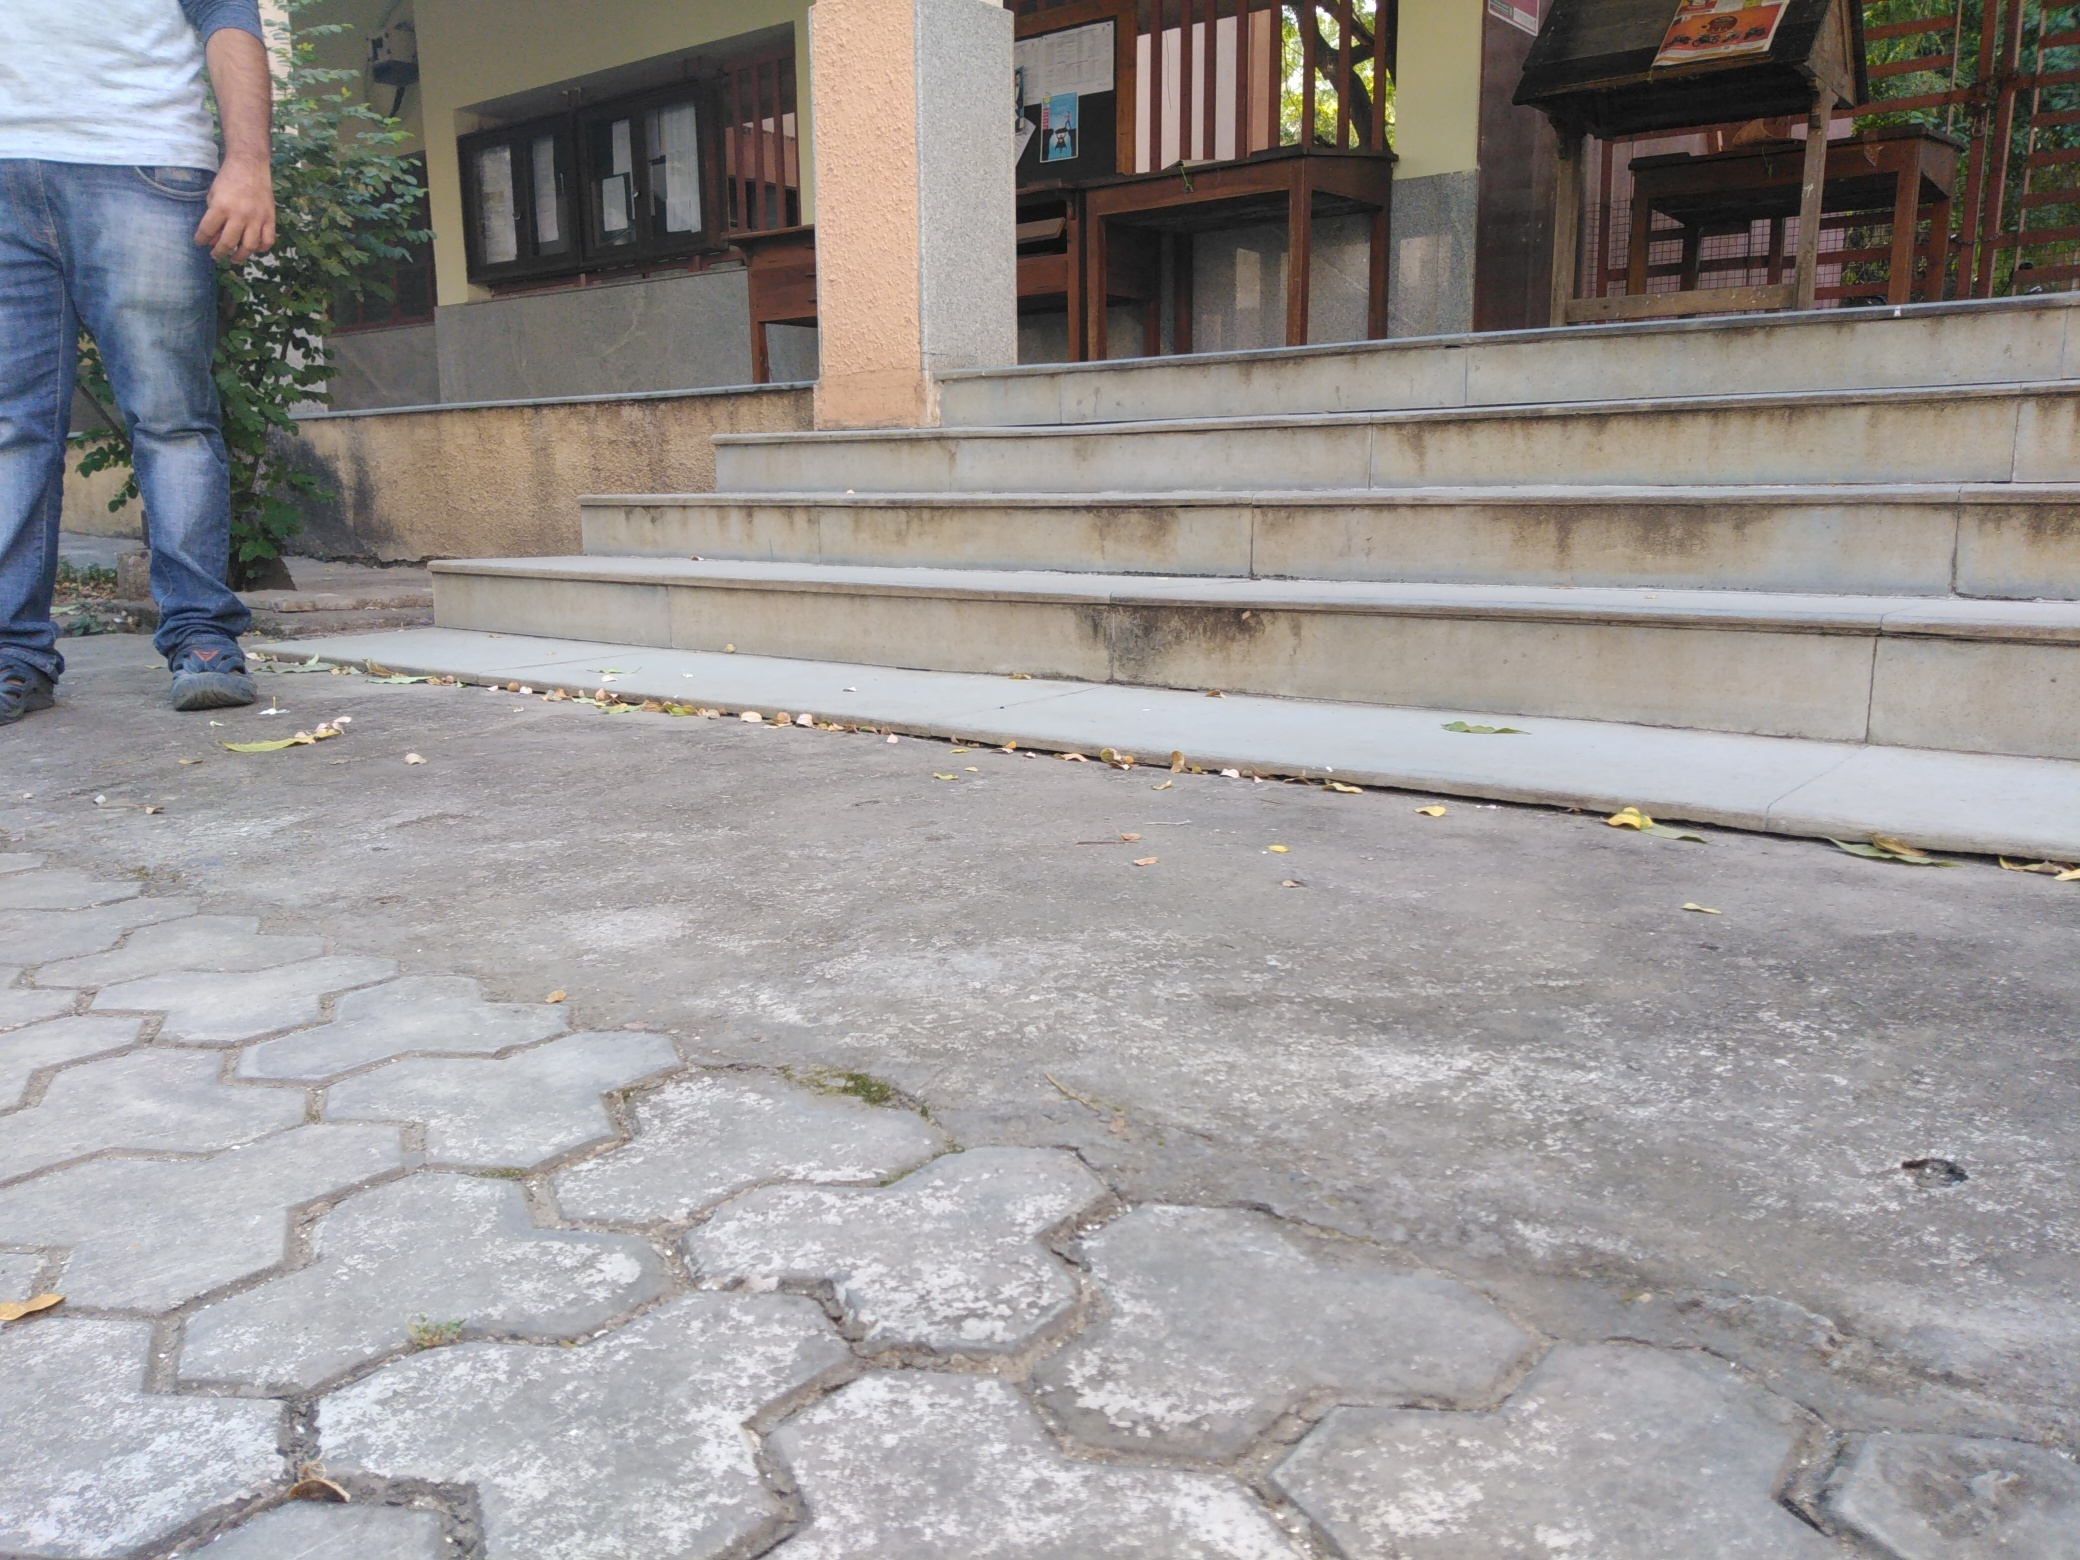stairs_up: (414, 287, 2070, 716)
